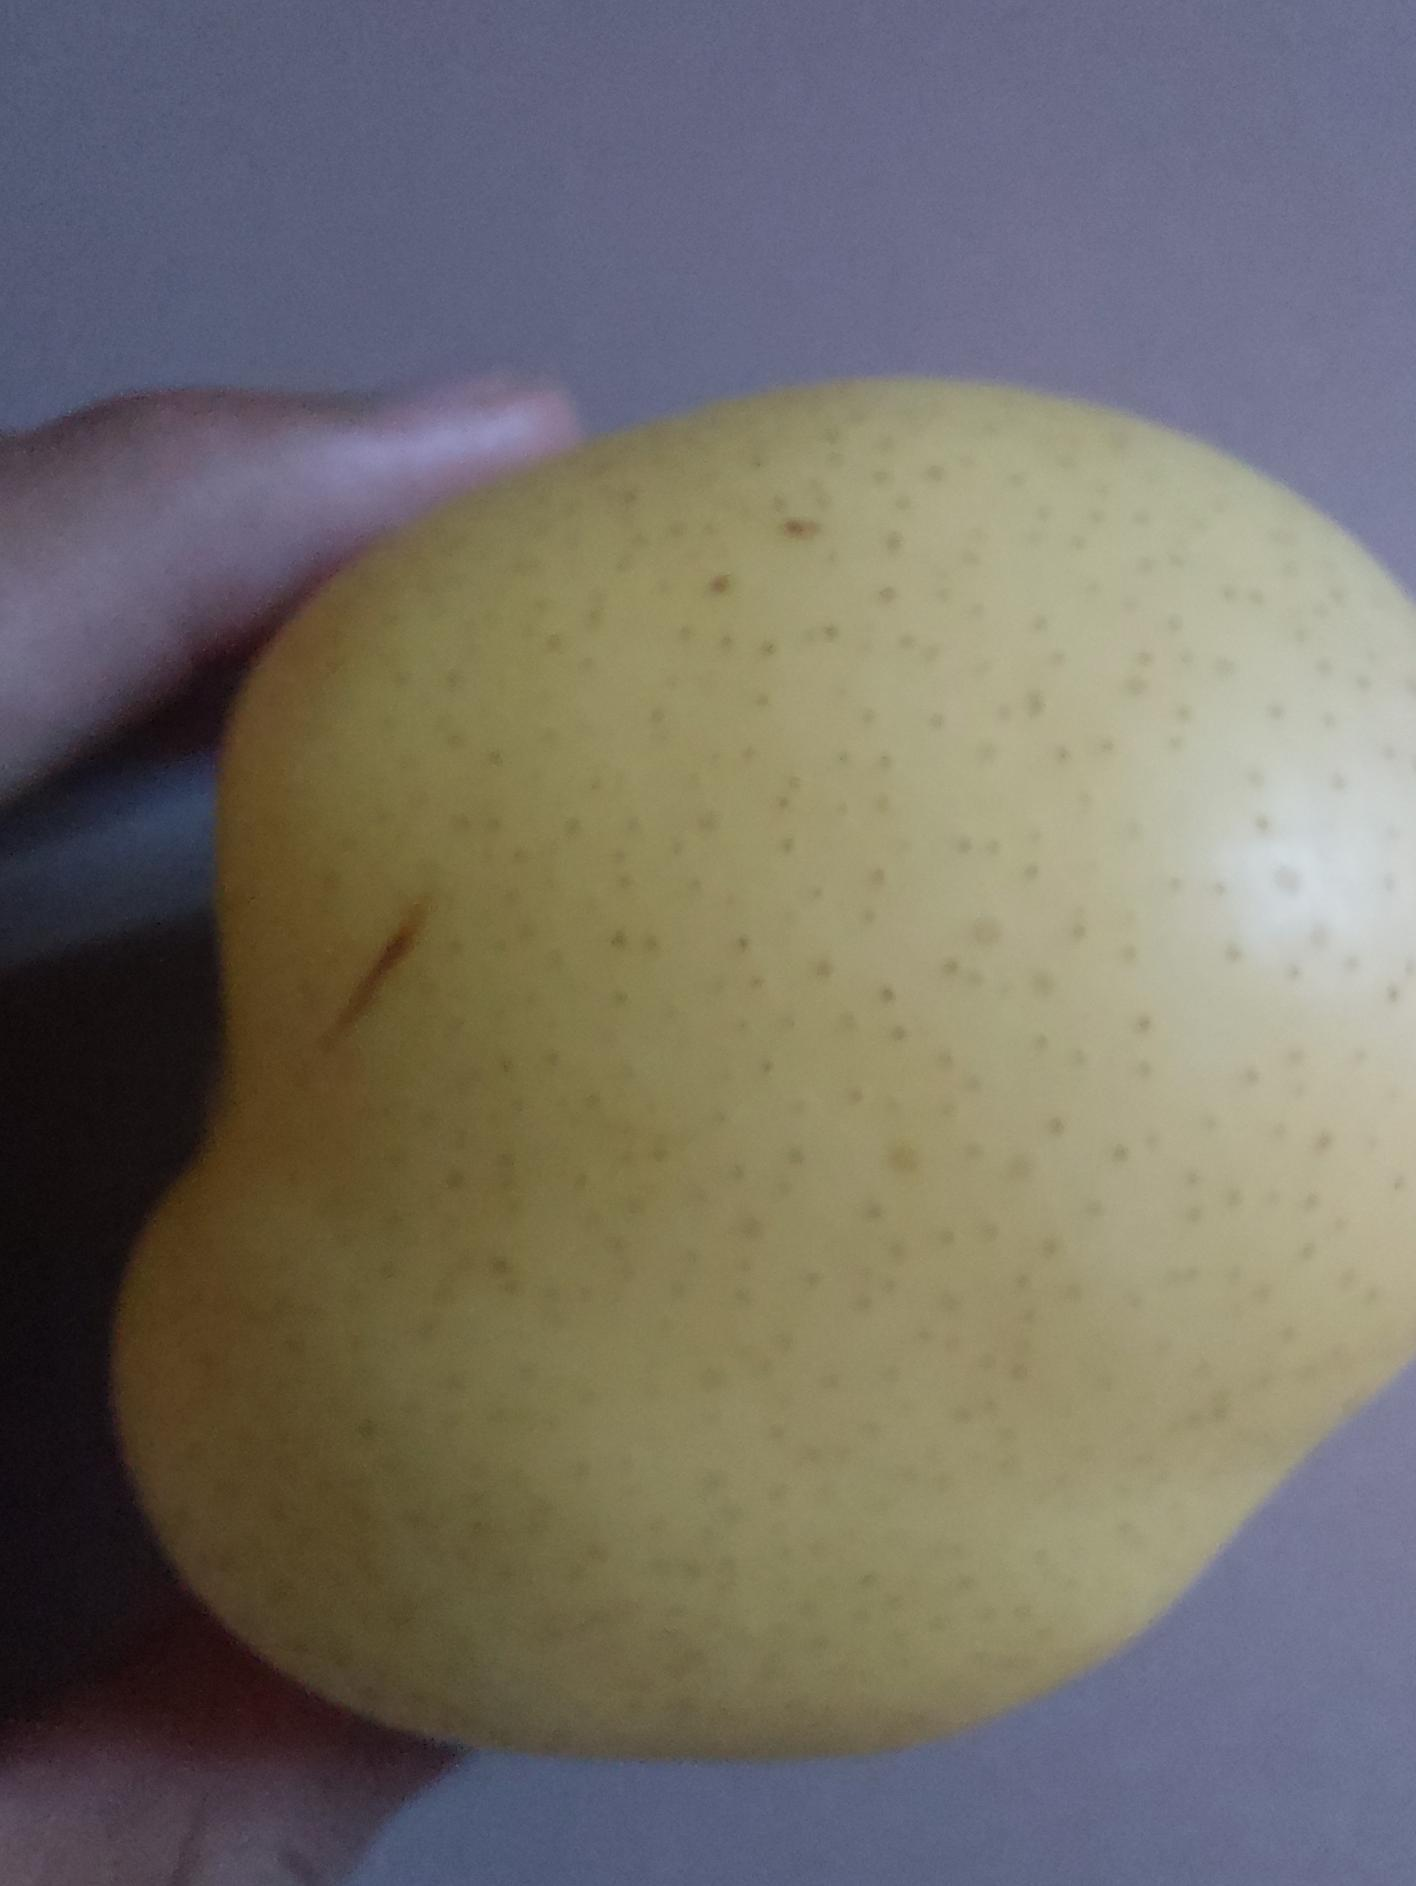Good Pear: (118, 370, 1416, 1766)
